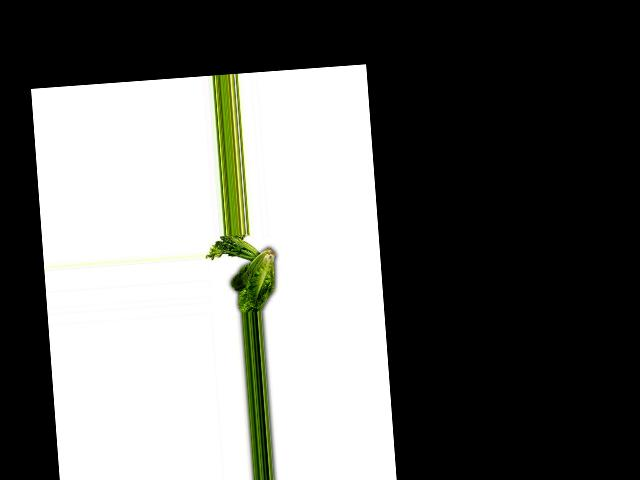lettuce: (223, 244, 277, 314)
